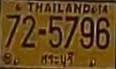2: (21, 14, 35, 48)
5: (48, 15, 62, 47)
6: (96, 16, 108, 48)
7: (5, 14, 20, 47), (64, 15, 78, 48)
9: (79, 16, 93, 48)
SRI: (37, 51, 76, 69)
